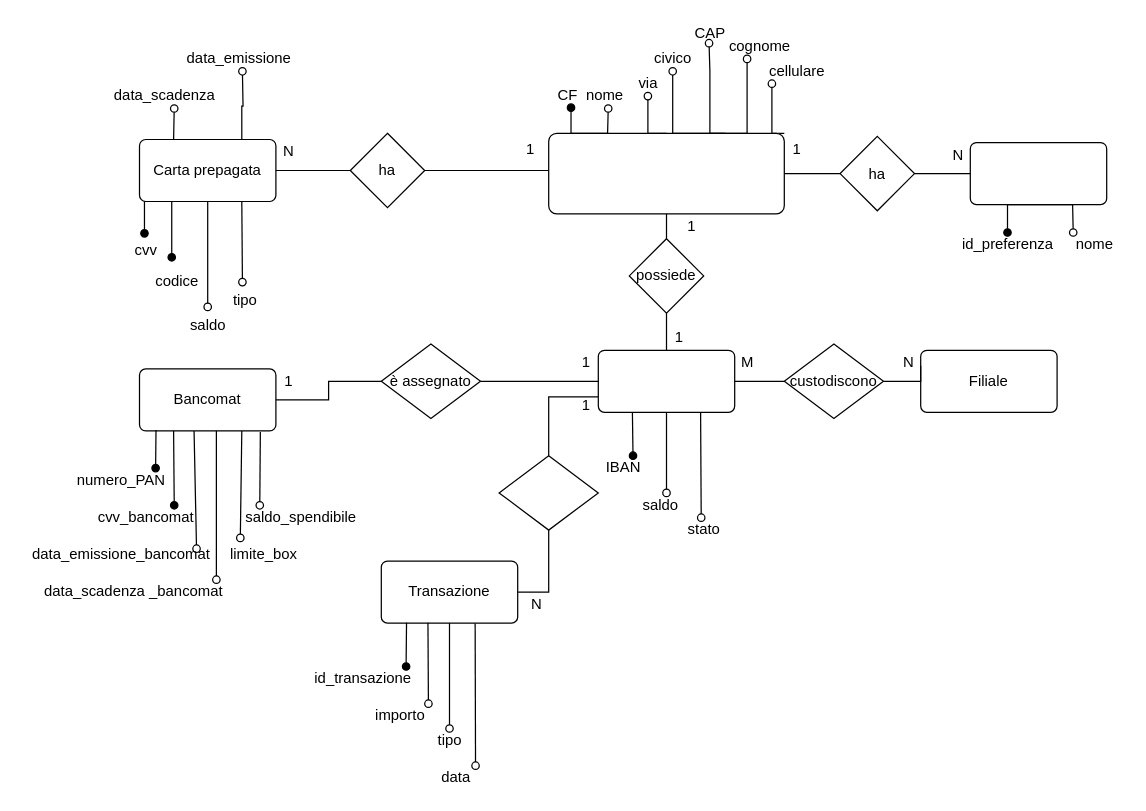
This 1146x811 diagram has some shape labels left out. The centre of each missing label's shape, as x and y in pixels:
"Conto corrente" belongs at pixel 666 380.
"effettua" belongs at pixel 548 492.
"Preferenze" belongs at pixel 1038 173.
"Utenti" belongs at pixel 665 173.
